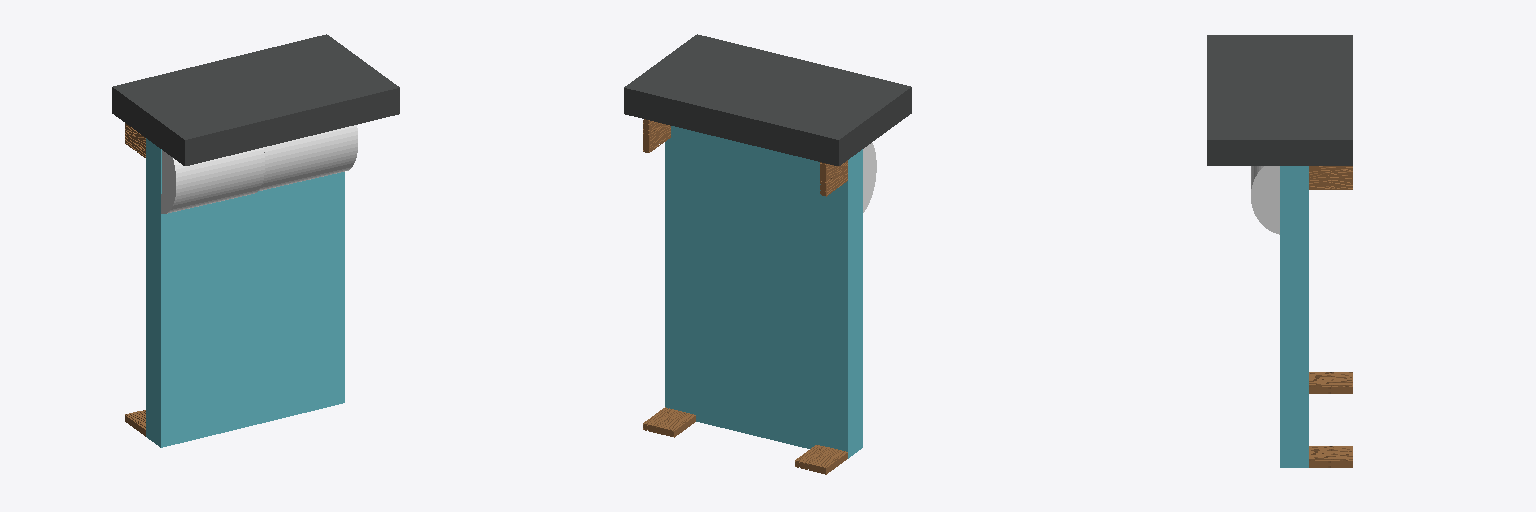
The model's file is tinker.obj.
3 renders of one model, left to right at view 1: azimuth 30°, elevation 25°; view 2: azimuth 150°, elevation 25°; view 3: azimuth 270°, elevation 25°, orthographic.
Parts seen in each view (by area): view 1: obj_0; view 2: obj_0; view 3: obj_0.
Boxes of the visible parts, <box> form: obj_0: <box>112,34,399,447</box>; obj_0: <box>624,34,911,474</box>; obj_0: <box>1207,35,1352,467</box>.
Bounding box in the file's own units: 34 × 51 × 20.